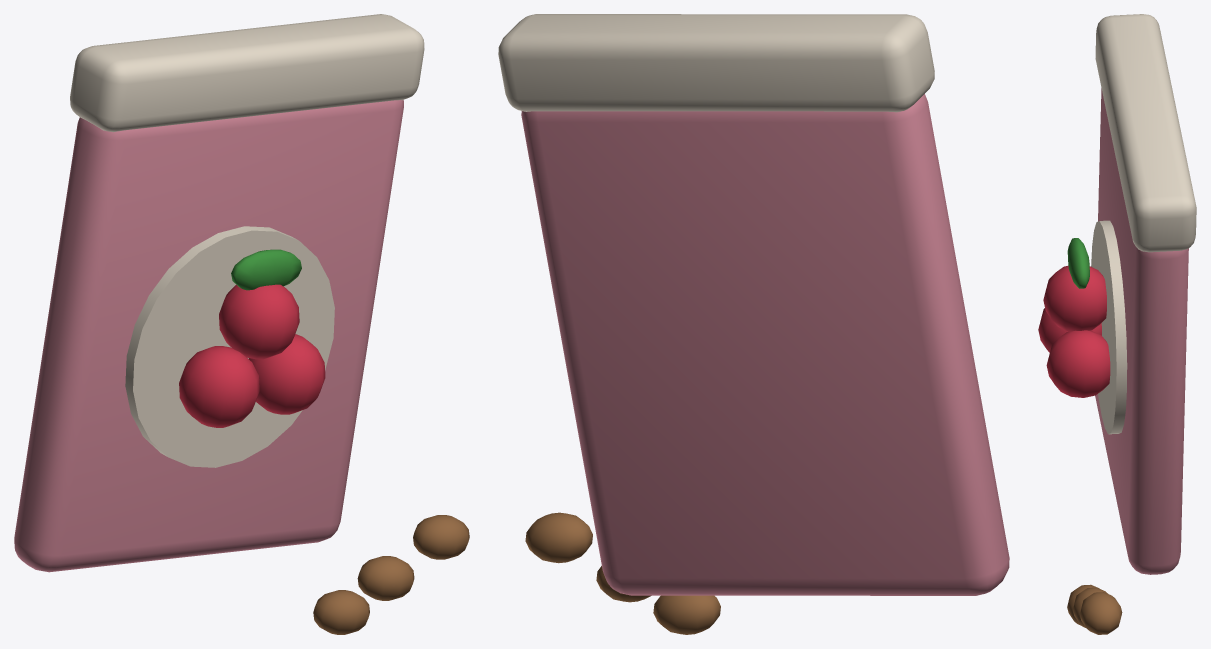
Rendered from mat_berryseed.glb.
The picture shows the model from 3 angles, left to right: view 1: azimuth 30°, elevation 25°; view 2: azimuth 150°, elevation 25°; view 3: azimuth 270°, elevation 25°; orthographic projection. The views are drawn at different scales.
Visible parts, largest first — view 1: _box; view 2: _box; view 3: _box.
Boxes of the visible parts, x1,y1,x2,y2 form: _box: (14,14,469,634); _box: (498,14,1009,634); _box: (1038,14,1196,634).
Size of the model in its own units: 0.7943 by 1.07 by 0.2954.
